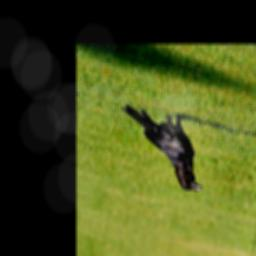Crow: (109, 94, 218, 197)
